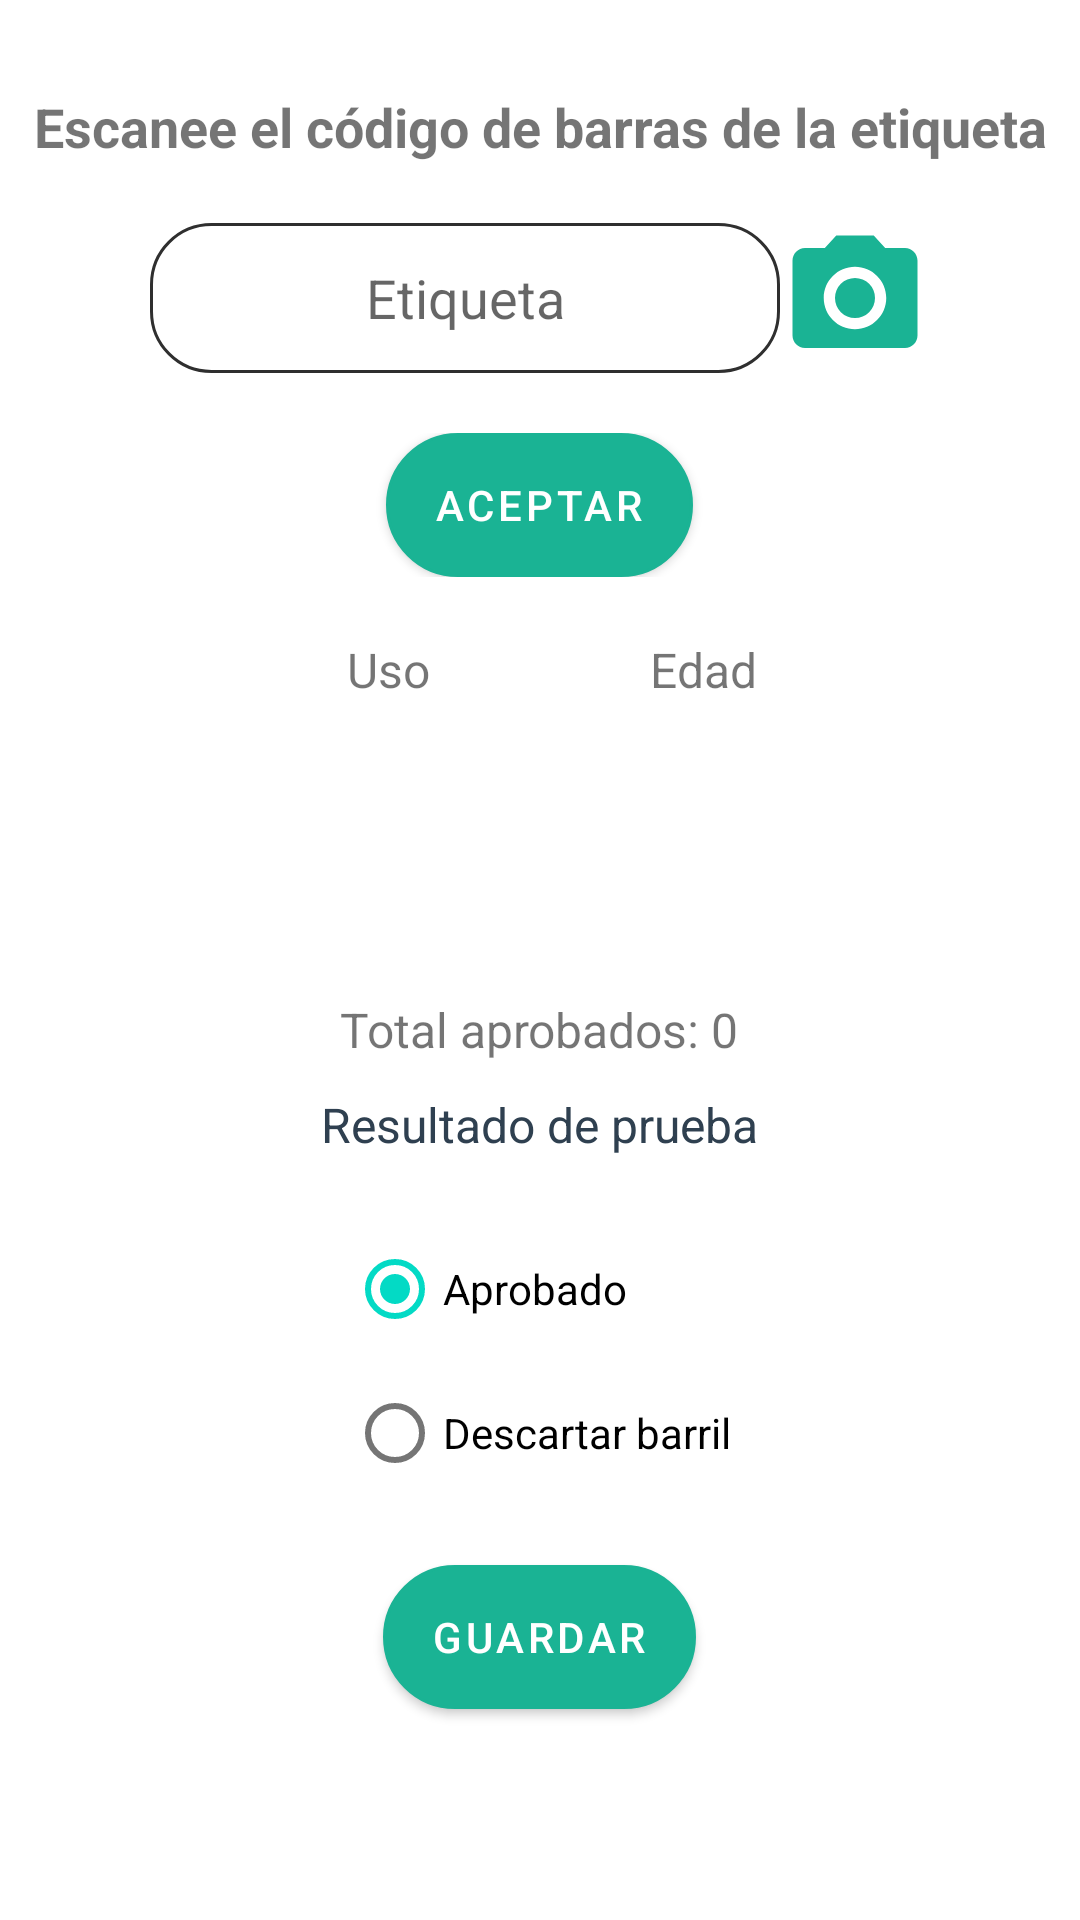

Screen size 1080px x 1920px. Icon name, then its center in pixels as point (x, y):
photo camera: point (855, 291)
